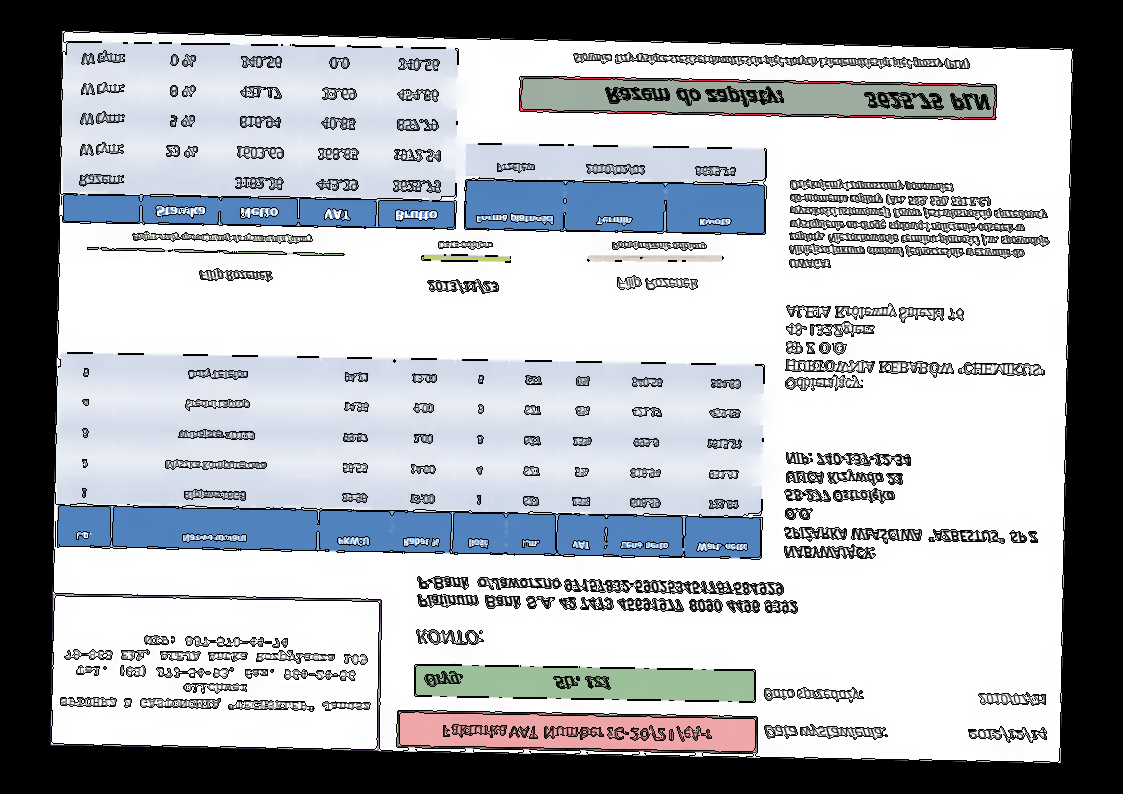Table: (55, 351, 766, 561), (60, 41, 459, 230), (463, 141, 769, 238)
TextBox: (781, 449, 1043, 565), (59, 629, 371, 716), (787, 178, 1052, 275), (783, 303, 1047, 396), (415, 571, 803, 617), (602, 83, 990, 116), (570, 49, 972, 72), (439, 719, 716, 746), (423, 669, 613, 693), (130, 230, 315, 247), (760, 723, 891, 743), (760, 684, 866, 704), (613, 274, 701, 294), (966, 725, 1049, 745), (198, 266, 273, 286), (975, 690, 1049, 710), (424, 277, 499, 296), (414, 627, 485, 647), (610, 239, 709, 253), (434, 237, 494, 254)
